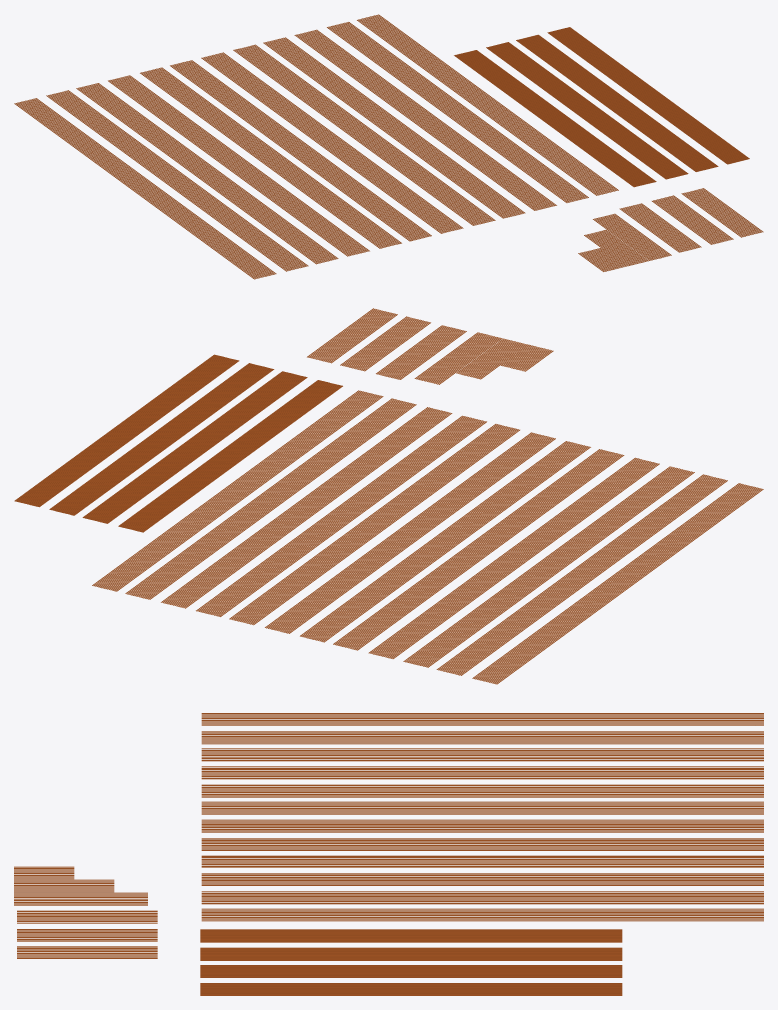
Rendered from FarmLand.fbx.
3 renders of one model, top to bottom at view 1: azimuth 30°, elevation 25°; view 2: azimuth 150°, elevation 25°; view 3: azimuth 270°, elevation 25°, orthographic. The views are drawn at different scales.
Visible parts, largest first — view 1: RespawnFloor.005; view 2: RespawnFloor.005; view 3: RespawnFloor.005.
Boxes of the visible parts, box(x1,y1,x2,y2) form: RespawnFloor.005: box(14, 14, 763, 279); RespawnFloor.005: box(14, 308, 763, 684); RespawnFloor.005: box(14, 713, 763, 995).
Size of the model in its own units: 19994 by 13.55 by 22401.
